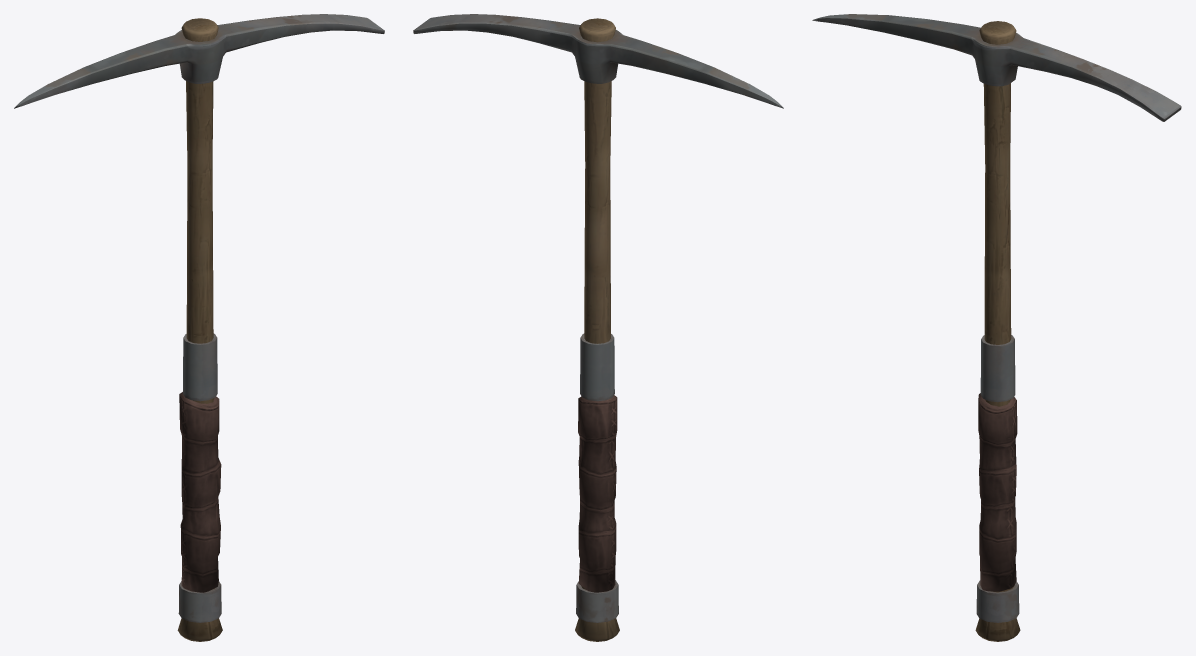
Rendered from SM_Farm_Pickaxe_01.fbx.
The picture shows the model from 3 angles, left to right: view 1: azimuth 30°, elevation 25°; view 2: azimuth 150°, elevation 25°; view 3: azimuth 330°, elevation 25°; orthographic projection.
Visible parts, largest first — view 1: SM_Farm_Pickaxe_01_LOD0; view 2: SM_Farm_Pickaxe_01_LOD0; view 3: SM_Farm_Pickaxe_01_LOD0.
Part boxes in pixels (bbox=[...]): SM_Farm_Pickaxe_01_LOD0: bbox=[14, 14, 384, 641]; SM_Farm_Pickaxe_01_LOD0: bbox=[413, 14, 783, 641]; SM_Farm_Pickaxe_01_LOD0: bbox=[812, 14, 1181, 641].
Size of what is drawn, in the model's own units: 0.5283 by 0.8487 by 0.0584.
